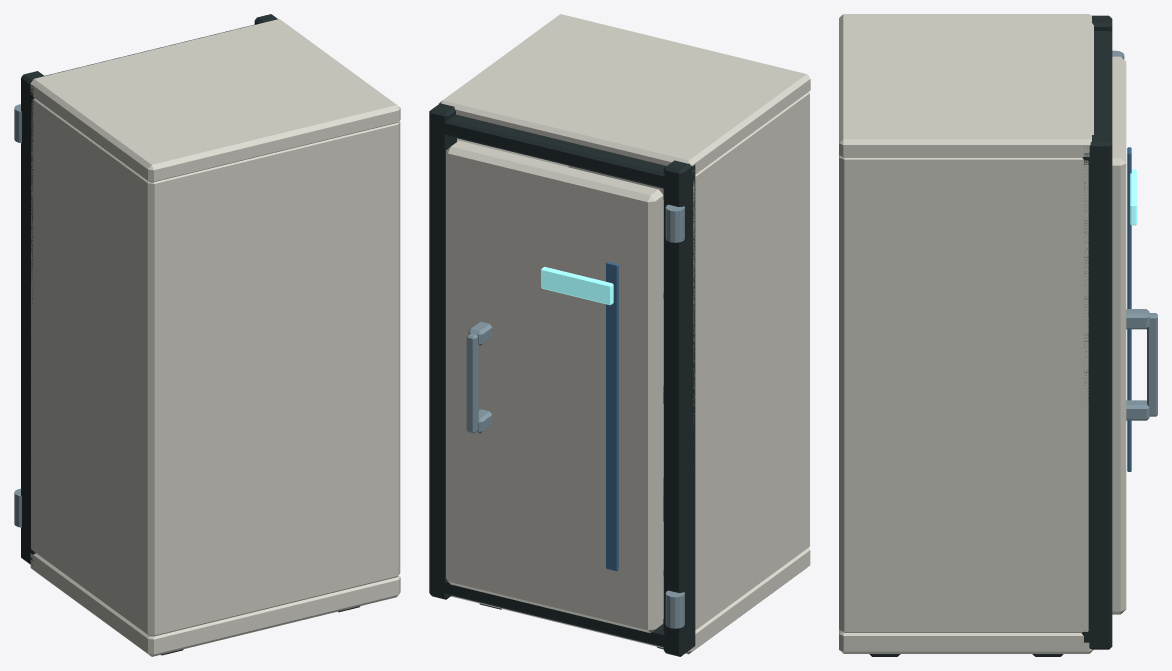
File: laboratory_specimen_freezer.glb
3 renders of one model, left to right at view 1: azimuth 30°, elevation 25°; view 2: azimuth 150°, elevation 25°; view 3: azimuth 270°, elevation 25°, orthographic. The views are drawn at different scales.
Visible parts, largest first — view 1: body_back_wall, body_side_wall (×2), body_roof, body_floor, front_side_frame; view 2: moving_door, body_side_wall, body_roof, front_side_frame (×2), front_cross_frame (×2), moving_vertical_stripe, body_floor, moving_temp_display, hinge_pin (×2), moving_handle_grip, body_back_wall; view 3: body_side_wall, body_roof, front_side_frame, moving_door, body_floor, body_back_wall, front_cross_frame, moving_vertical_stripe, moving_handle_grip, moving_handle_mount (×2).
Boxes of the visible parts, x1,y1,x2,y2 form: body_back_wall: (140, 123, 398, 634); body_side_wall (×2): (31, 98, 400, 636); body_roof: (30, 19, 400, 182); body_floor: (30, 553, 400, 656); front_side_frame: (21, 71, 44, 565); moving_door: (446, 140, 663, 632); body_side_wall: (693, 92, 809, 629); body_roof: (438, 14, 810, 174); front_side_frame (×2): (429, 103, 695, 656); front_cross_frame (×2): (429, 114, 695, 649); moving_vertical_stripe: (606, 261, 618, 571); body_floor: (451, 547, 810, 654); moving_temp_display: (541, 266, 613, 305); hinge_pin (×2): (665, 204, 684, 628); moving_handle_grip: (466, 333, 478, 433); body_back_wall: (568, 92, 809, 546); body_side_wall: (839, 155, 1088, 632); body_roof: (839, 14, 1093, 157); front_side_frame: (1082, 135, 1112, 649); moving_door: (1112, 56, 1126, 614); body_floor: (839, 630, 1093, 653); body_back_wall: (844, 158, 860, 632); front_cross_frame: (1082, 31, 1112, 164); moving_vertical_stripe: (1127, 147, 1131, 471); moving_handle_grip: (1147, 313, 1157, 416); moving_handle_mount (×2): (1126, 309, 1149, 420).
Size of the model in its own units: 0.982 by 1.86 by 1.01.
